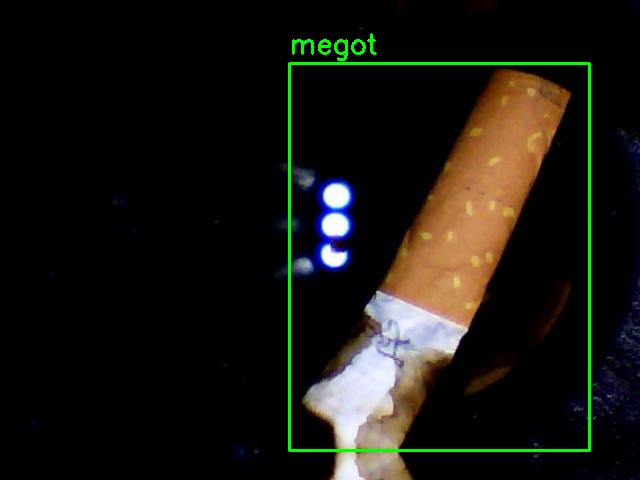megot: (289, 63, 589, 450)
